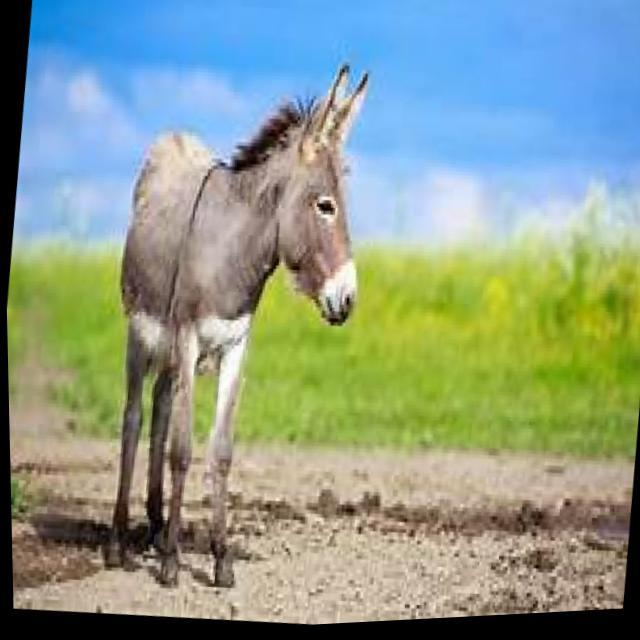Donkey: (57, 27, 414, 619)
